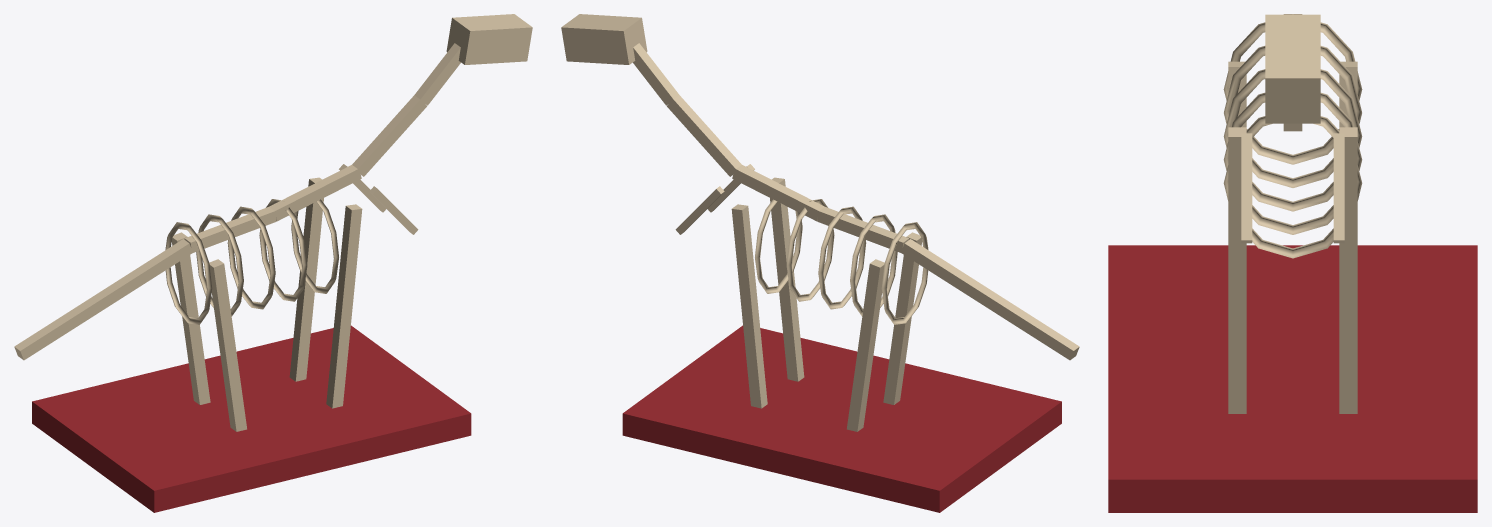
The model's file is dino_skeleton.glb.
3 renders of one model, left to right at view 1: azimuth 30°, elevation 25°; view 2: azimuth 150°, elevation 25°; view 3: azimuth 270°, elevation 25°, orthographic. The views are drawn at different scales.
Parts seen in each view (by area): view 1: dino_skeleton; view 2: dino_skeleton; view 3: dino_skeleton.
Part boxes in pixels (x1,y1,x2,y2): dino_skeleton: [14, 14, 532, 512]; dino_skeleton: [561, 14, 1079, 512]; dino_skeleton: [1108, 14, 1477, 512].
Size of the model in its own units: 4.79 by 3.2 by 2.
